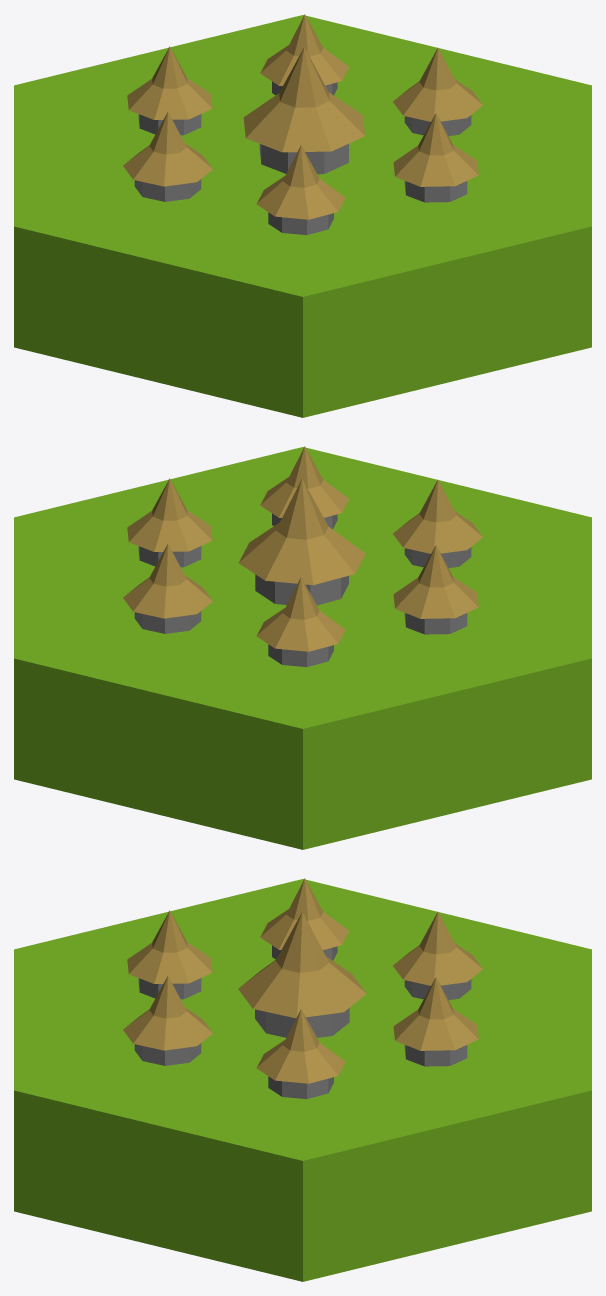
File: Pequeño_Asentamiento.fbx
The picture shows the model from 3 angles, top to bottom: view 1: azimuth 30°, elevation 25°; view 2: azimuth 150°, elevation 25°; view 3: azimuth 270°, elevation 25°; orthographic projection.
Parts seen in each view (by area): view 1: Pequeño_asentamiento; view 2: Pequeño_asentamiento; view 3: Pequeño_asentamiento.
Part boxes in pixels (box(x1,y1,x2,y2)): Pequeño_asentamiento: box(14, 14, 591, 417); Pequeño_asentamiento: box(14, 446, 591, 849); Pequeño_asentamiento: box(14, 878, 591, 1281).
Size of the model in its own units: 200 by 76.04 by 173.
Materials: 1 (1 with a texture image).
